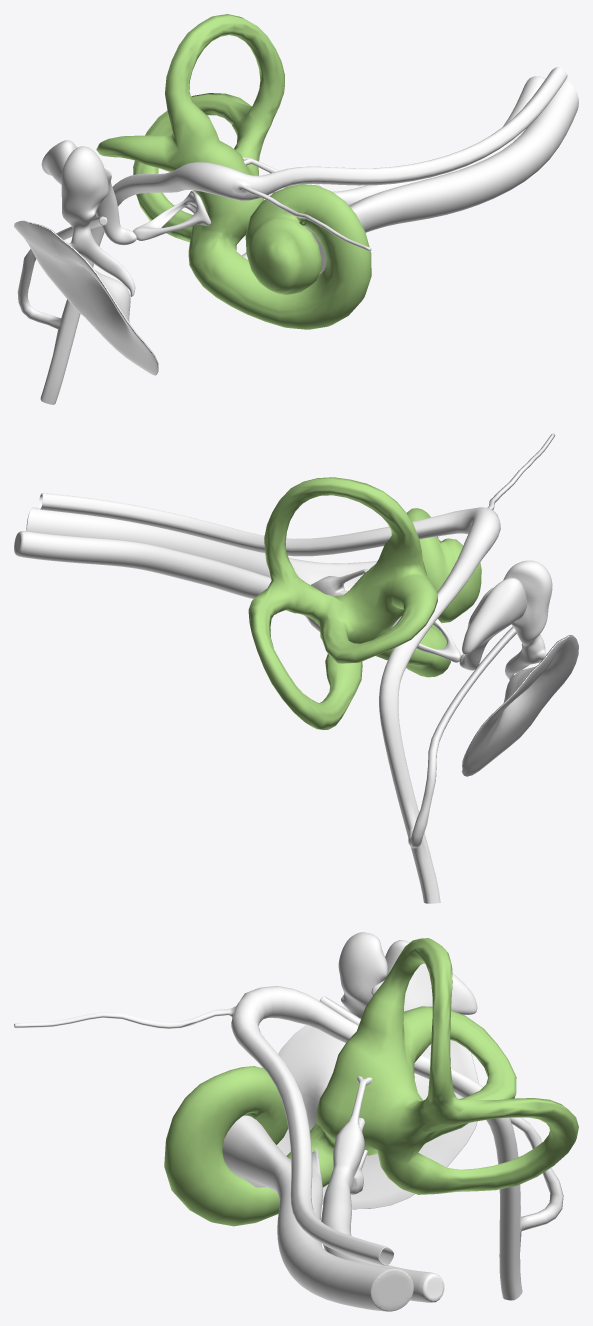
Rendered from ears.glb.
3 views of the same model, one above another, from view 1: azimuth 30°, elevation 25°; view 2: azimuth 150°, elevation 25°; view 3: azimuth 270°, elevation 25° (orthographic). The views are drawn at different scales.
Parts seen in each view (by area): view 1: Object_10, Object_5, Object_11, Object_6, Object_7, Object_4, Object_9, Object_3; view 2: Object_10, Object_5, Object_9, Object_11, Object_6, Object_7, Object_4, Object_3; view 3: Object_10, Object_5, Object_11, Object_6, Object_9, Object_7, Object_4.
Boxes of the visible parts, bbox=[...] form: Object_10: bbox=[96, 14, 371, 329]; Object_5: bbox=[17, 67, 567, 404]; Object_11: bbox=[241, 79, 578, 274]; Object_6: bbox=[14, 220, 158, 375]; Object_7: bbox=[61, 146, 135, 296]; Object_4: bbox=[41, 140, 136, 245]; Object_9: bbox=[242, 76, 545, 204]; Object_3: bbox=[133, 191, 211, 240]; Object_10: bbox=[248, 477, 481, 729]; Object_5: bbox=[39, 433, 555, 903]; Object_9: bbox=[14, 531, 368, 631]; Object_11: bbox=[26, 507, 377, 591]; Object_6: bbox=[461, 635, 578, 776]; Object_7: bbox=[503, 560, 552, 679]; Object_4: bbox=[459, 578, 527, 670]; Object_3: bbox=[390, 616, 461, 662]; Object_10: bbox=[164, 938, 578, 1226]; Object_5: bbox=[14, 986, 563, 1300]; Object_11: bbox=[222, 1115, 413, 1311]; Object_6: bbox=[277, 1005, 478, 1209]; Object_9: bbox=[321, 1076, 444, 1302]; Object_7: bbox=[338, 932, 387, 1018]; Object_4: bbox=[371, 940, 477, 1014].
Size of the model in its own units: 13.71 by 9.25 by 11.24.
